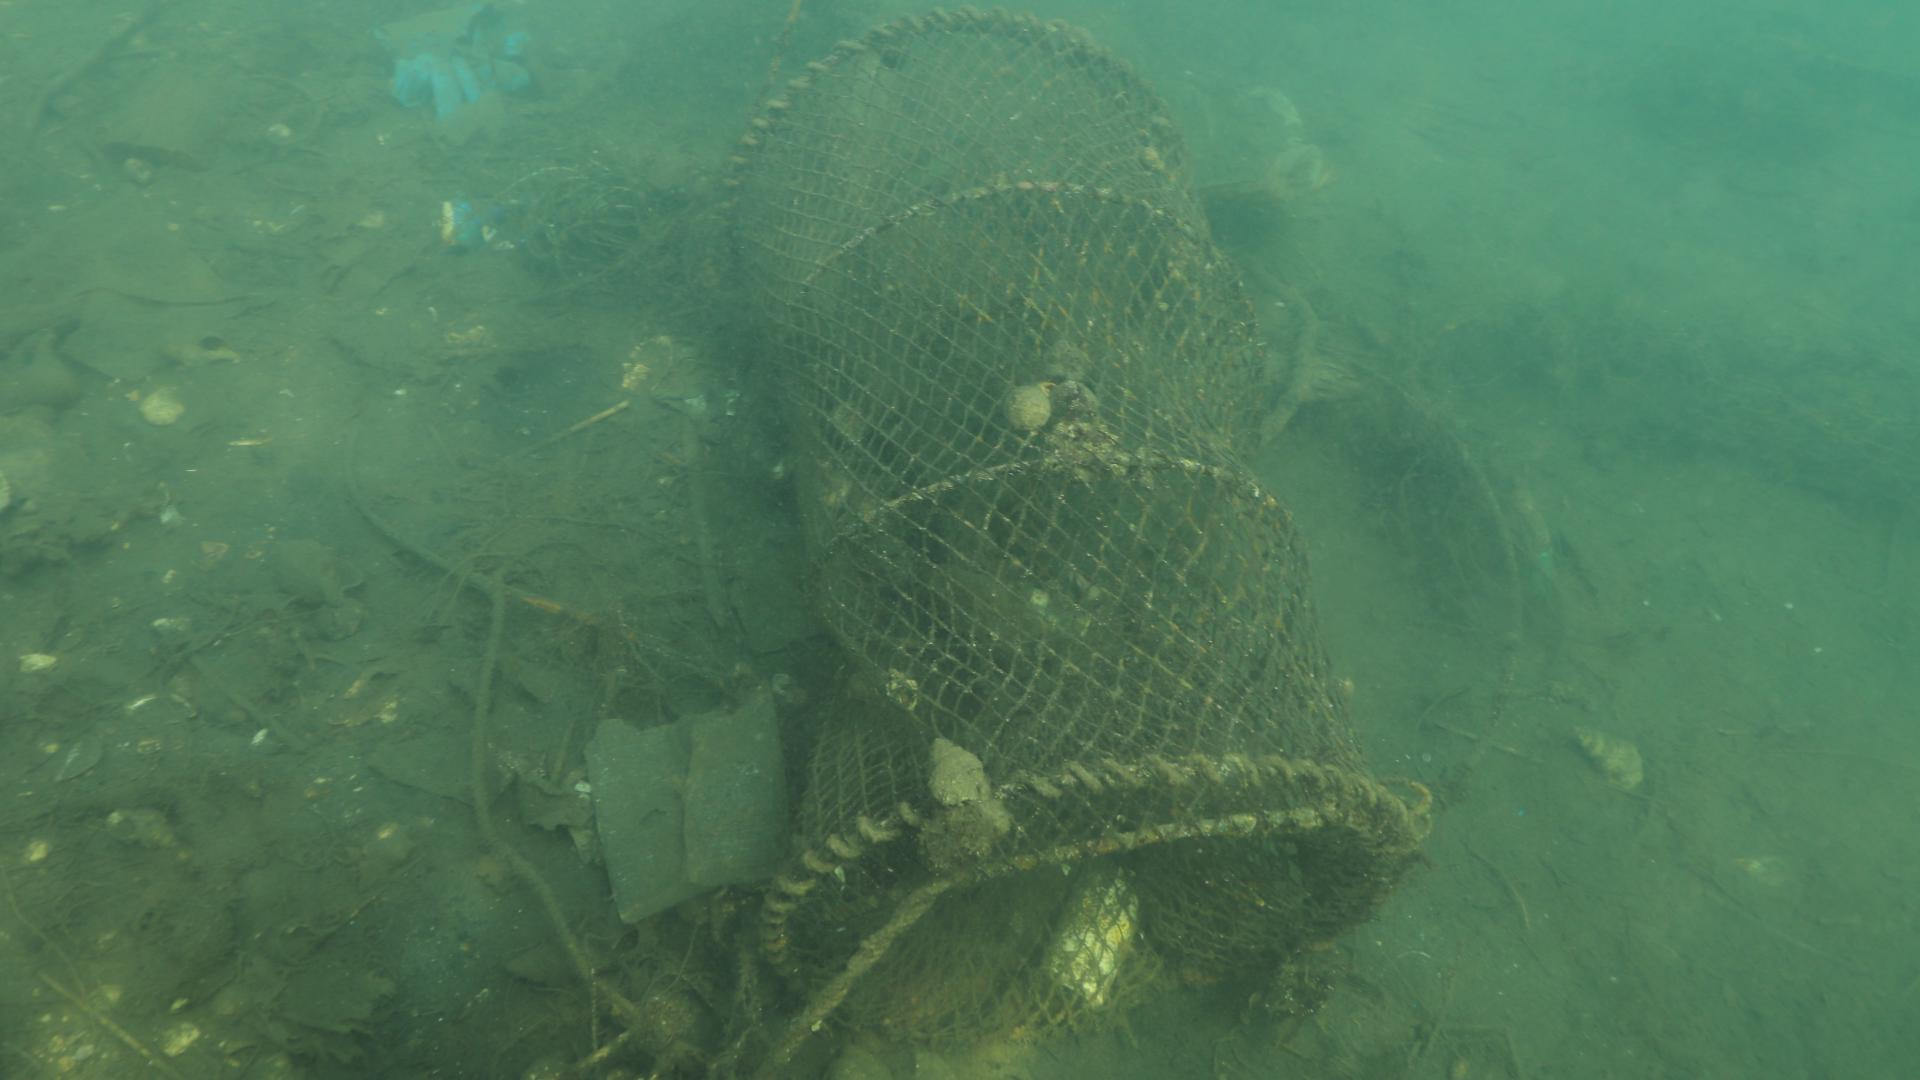spring fish trap: (716, 4, 1432, 1050)
